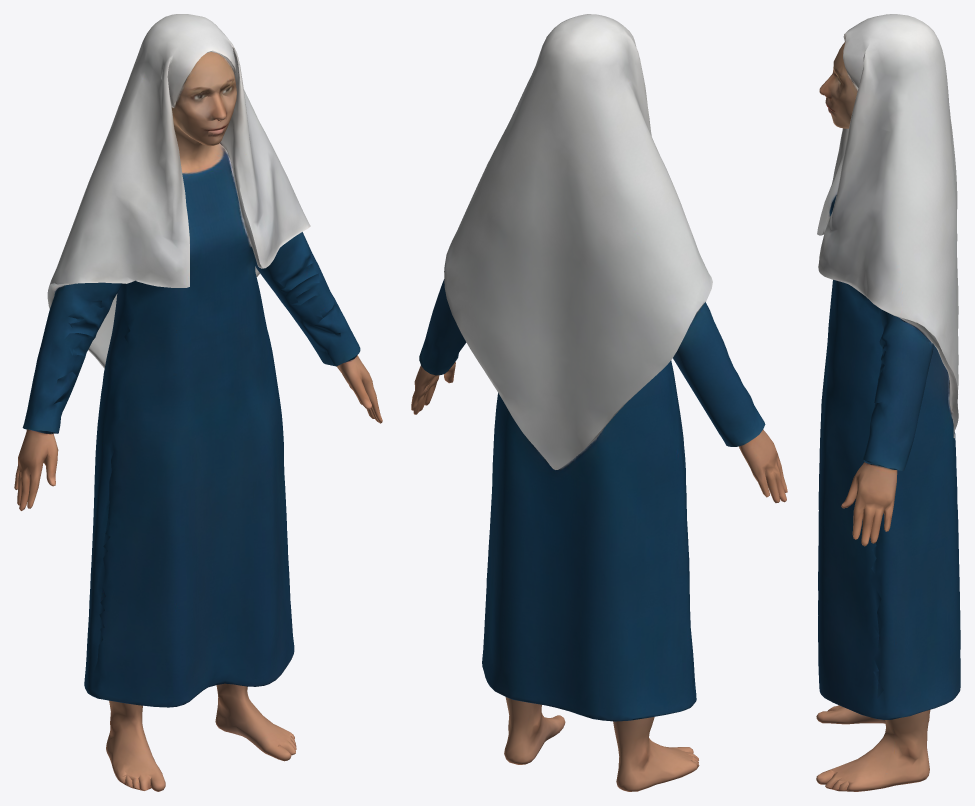
Rendered from femme_2.glb.
The picture shows the model from 3 angles, left to right: view 1: azimuth 30°, elevation 25°; view 2: azimuth 150°, elevation 25°; view 3: azimuth 270°, elevation 25°; orthographic projection. The views are drawn at different scales.
Parts seen in each view (by area): view 1: Mesh; view 2: Mesh; view 3: Mesh.
Part boxes in pixels (bbox=[...]): Mesh: bbox=[14, 14, 382, 791]; Mesh: bbox=[411, 14, 787, 791]; Mesh: bbox=[816, 14, 960, 791].
Size of the model in its own units: 0.9832 by 1.9 by 0.339.
1 material, 1 textured.
